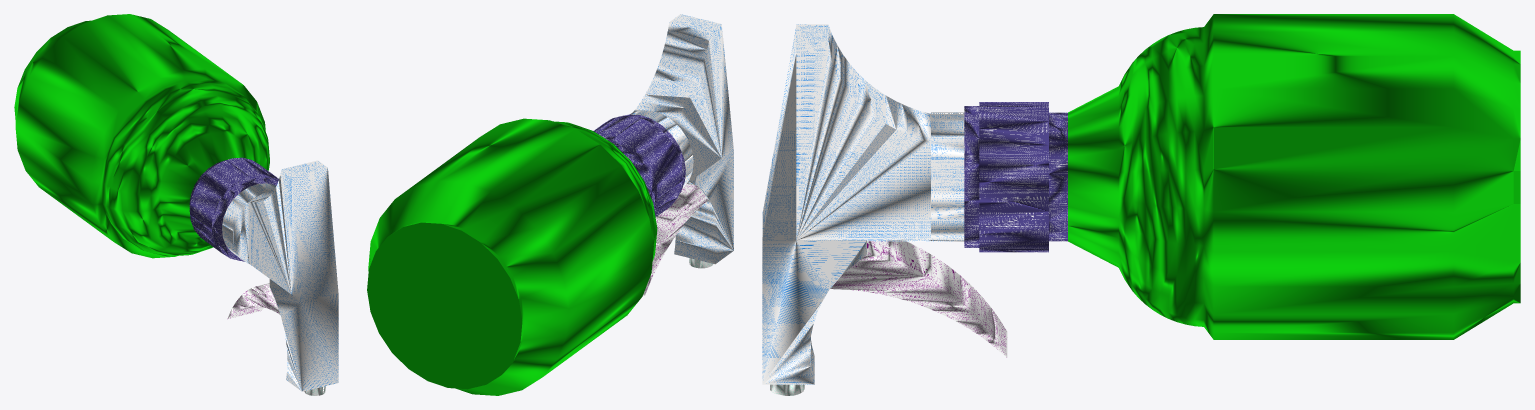
Rendered from model_align.obj.
The picture shows the model from 3 angles, left to right: view 1: azimuth 30°, elevation 25°; view 2: azimuth 150°, elevation 25°; view 3: azimuth 270°, elevation 25°; orthographic projection. The views are drawn at different scales.
Size of the model in its own units: 0.0901 by 0.1089 by 0.2095.
